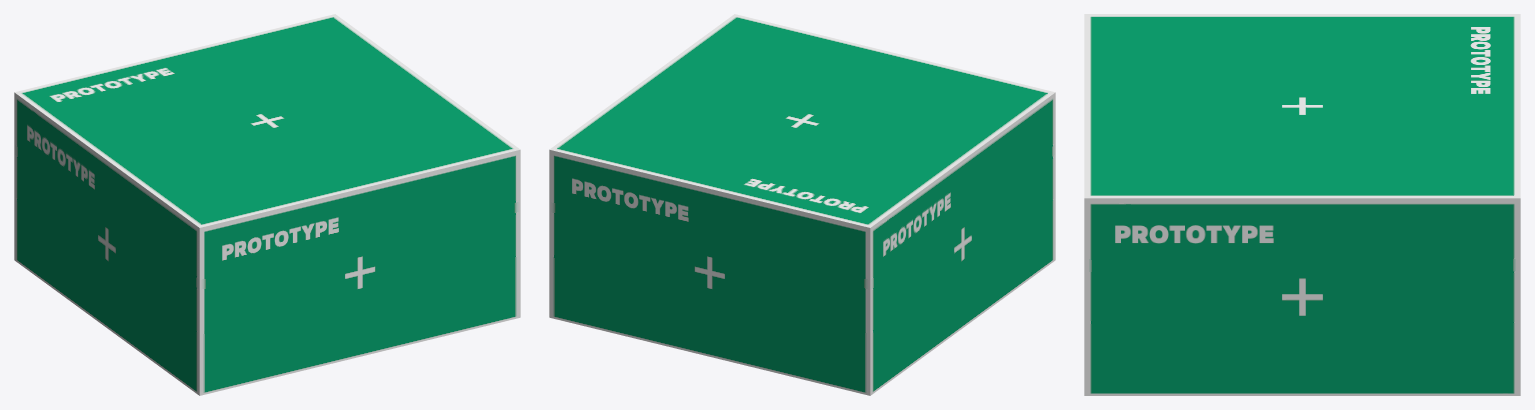
The model's file is ProtoBox_S.fbx.
3 views of the same model, side by side, from view 1: azimuth 30°, elevation 25°; view 2: azimuth 150°, elevation 25°; view 3: azimuth 270°, elevation 25° (orthographic). The views are drawn at different scales.
Parts seen in each view (by area): view 1: ProtoBox_S; view 2: ProtoBox_S; view 3: ProtoBox_S.
Boxes of the visible parts, x1,y1,x2,y2 form: ProtoBox_S: (14, 14, 520, 395); ProtoBox_S: (549, 14, 1055, 395); ProtoBox_S: (1084, 14, 1520, 395).
Size of the model in its own units: 200 by 100 by 200.
